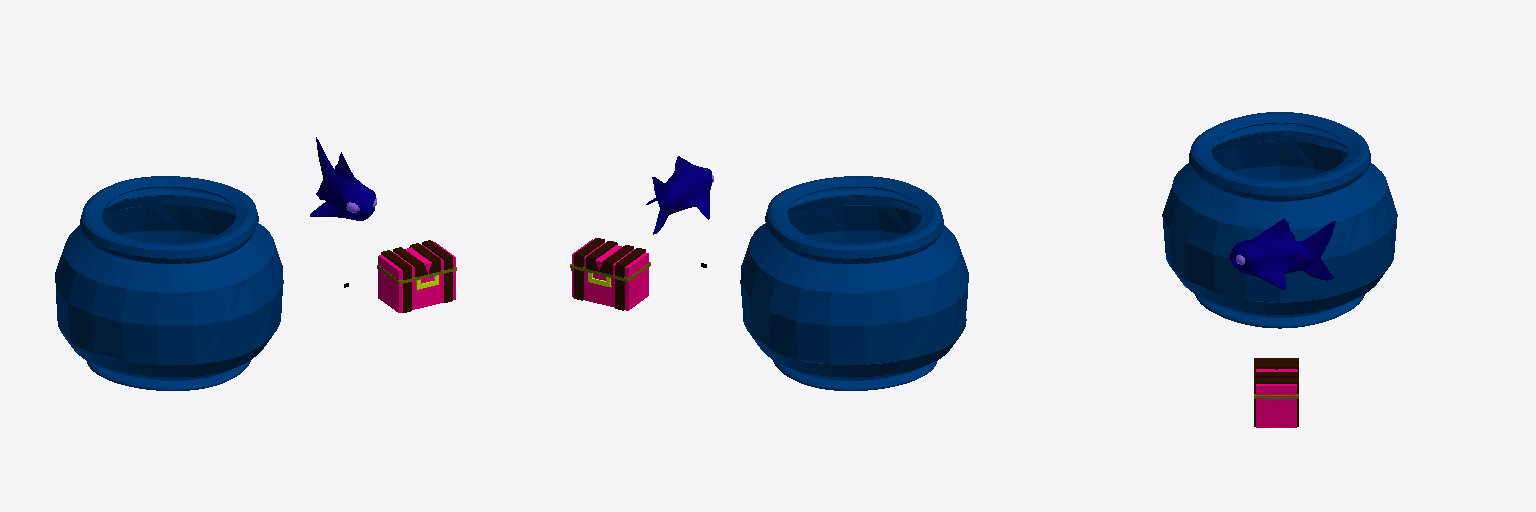
The model's file is Unit7LabSetForSubstance.obj.
3 views of the same model, side by side, from view 1: azimuth 30°, elevation 25°; view 2: azimuth 150°, elevation 25°; view 3: azimuth 270°, elevation 25° (orthographic).
Parts seen in each view (by area): view 1: revolvedSurface1, polySurface1, pSphere2; view 2: revolvedSurface1, polySurface1, pSphere2; view 3: revolvedSurface1, pSphere2, polySurface1.
Part boxes in pixels (bbox=[...]): revolvedSurface1: bbox=[55, 176, 283, 390]; polySurface1: bbox=[377, 240, 456, 312]; pSphere2: bbox=[310, 137, 376, 220]; revolvedSurface1: bbox=[740, 176, 968, 390]; polySurface1: bbox=[570, 238, 650, 310]; pSphere2: bbox=[646, 156, 713, 234]; revolvedSurface1: bbox=[1162, 112, 1397, 328]; pSphere2: bbox=[1229, 218, 1335, 289]; polySurface1: bbox=[1254, 358, 1298, 427].
Bounding box in the file's own units: 31.75 × 13 × 17.17.